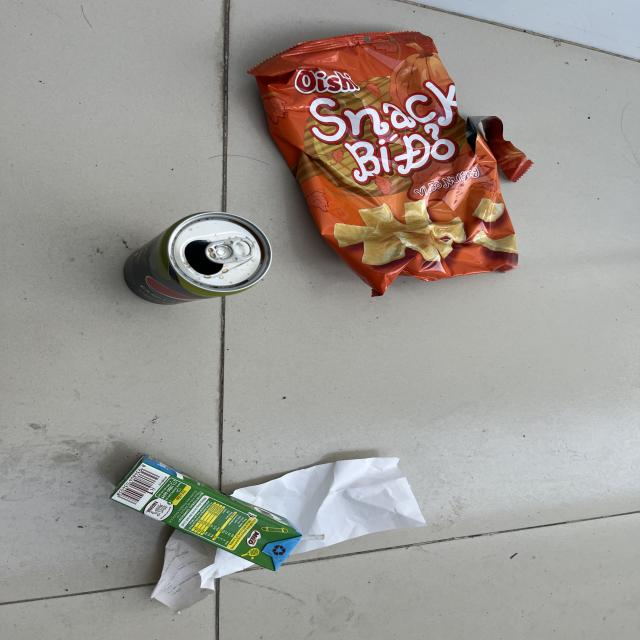can: (124, 211, 274, 306)
milk box: (111, 455, 304, 572)
paper: (149, 456, 430, 612)
snack package: (245, 30, 536, 299)
